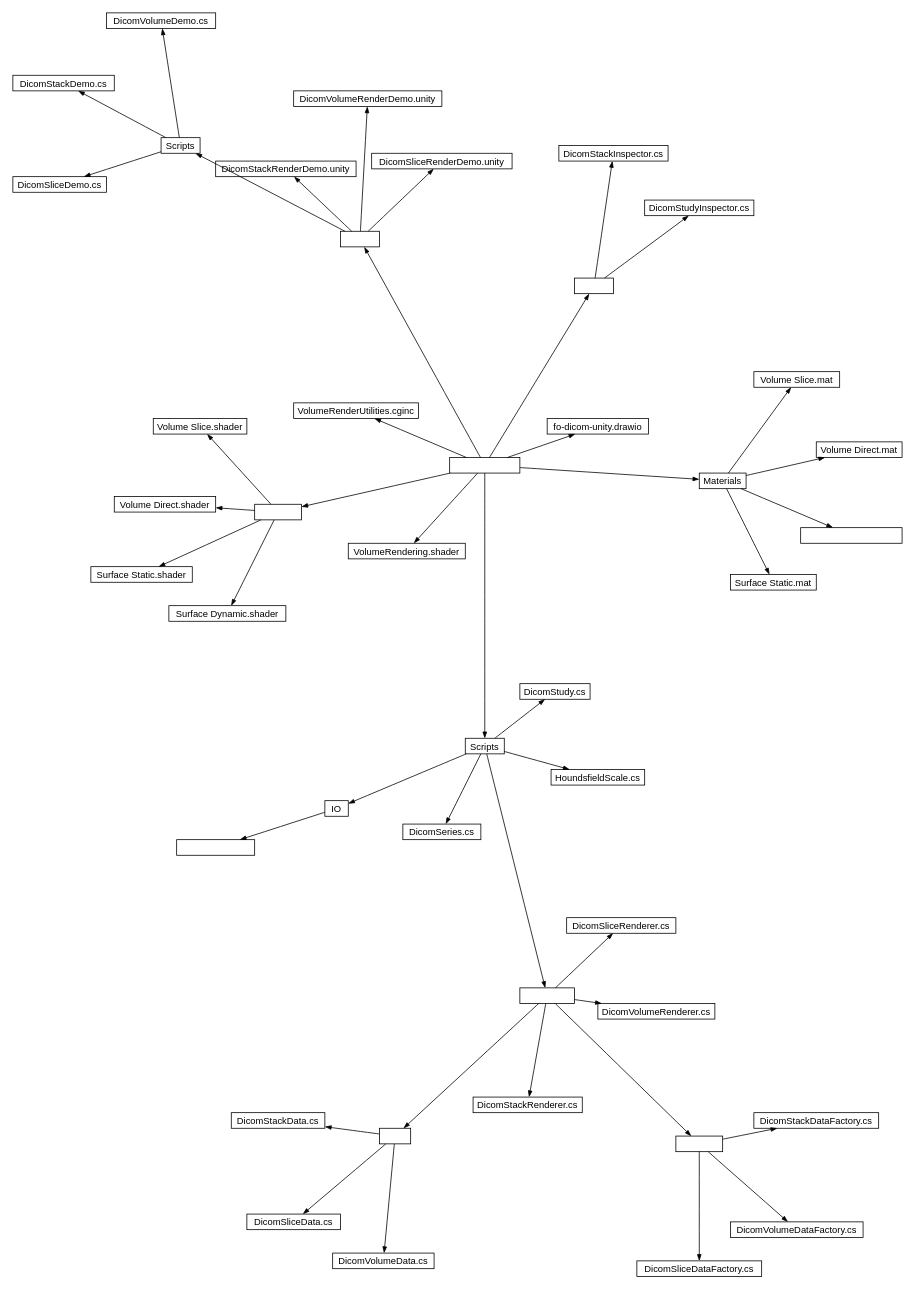
The diagram is 915 pixels wide and 1289 high, and some of its shapes have lost their labels. The shapes that lost their labels are listed below. From the top down, each one's box as (x1, y1, x2, y2) in pixels, then its label:
(340, 230, 379, 247): Demos
(574, 277, 613, 294): Editor
(449, 457, 520, 473): fo-dicom-unity
(254, 503, 301, 520): Shaders
(800, 527, 902, 543): Surface Dynamic.mat
(176, 839, 255, 855): DicomReader.cs
(519, 987, 574, 1003): Rendering
(379, 1127, 411, 1144): Data
(675, 1135, 723, 1152): Factories
